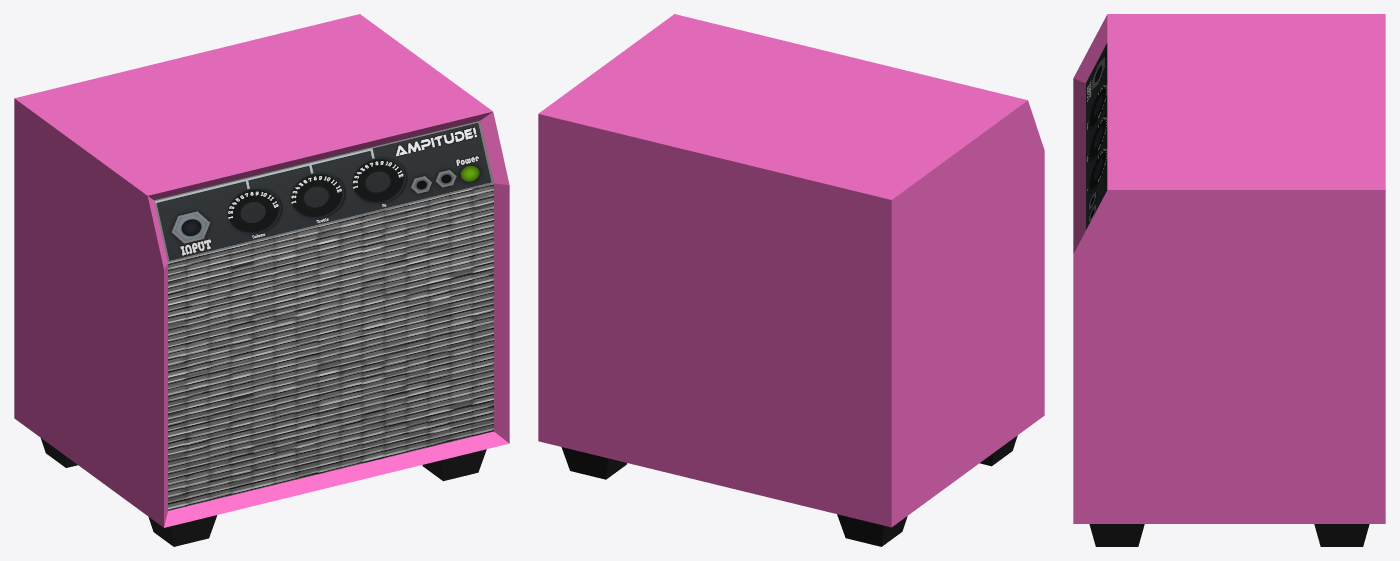
Rendered from Amp_H.FBX.
The picture shows the model from 3 angles, left to right: view 1: azimuth 30°, elevation 25°; view 2: azimuth 150°, elevation 25°; view 3: azimuth 270°, elevation 25°; orthographic projection. The views are drawn at different scales.
Visible parts, largest first — view 1: Amp; view 2: Amp; view 3: Amp.
Part boxes in pixels (x1,y1,x2,y2): Amp: (14, 14, 509, 546); Amp: (538, 14, 1044, 546); Amp: (1073, 14, 1385, 546).
Size of the model in its own units: 55.04 by 53.57 by 41.28.
